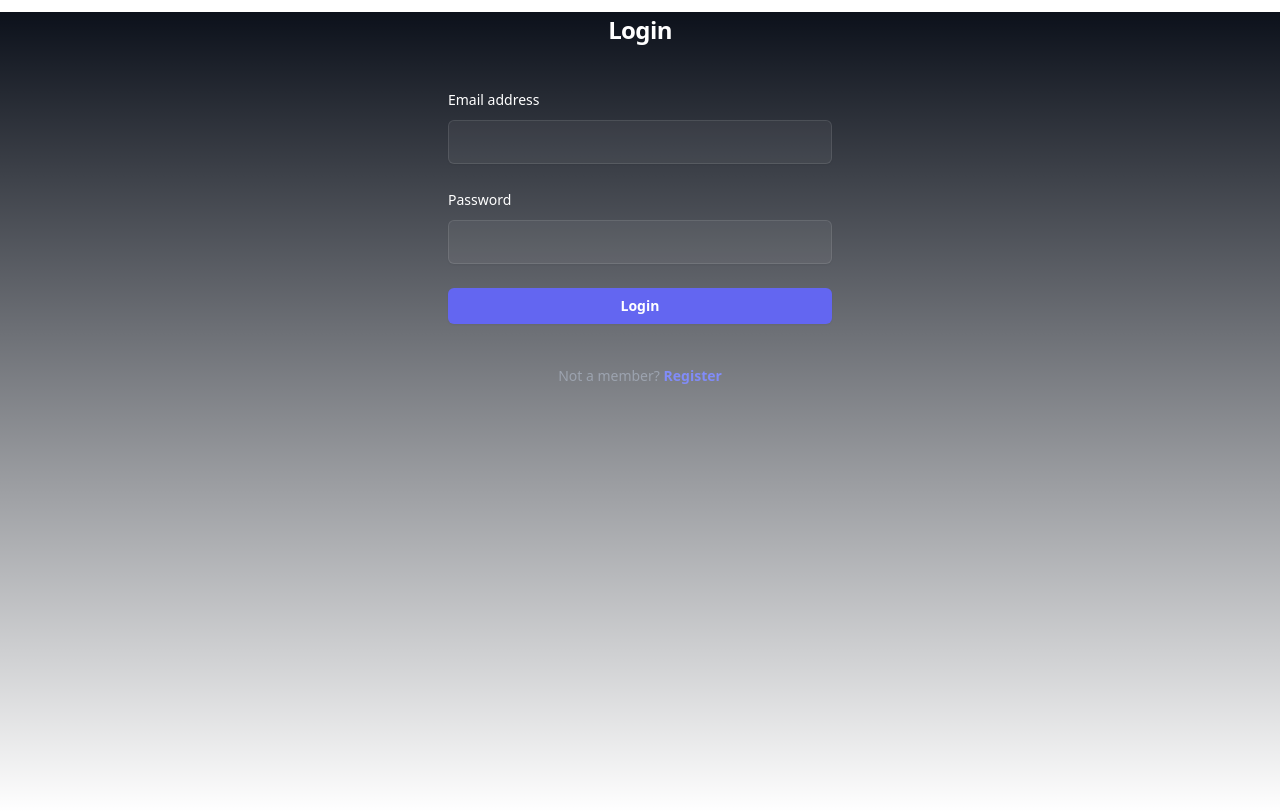
it: Login › should render error message when submit empty form
Click the button with test id "login-button": coordinates (640, 306) [448, 288, 832, 324]
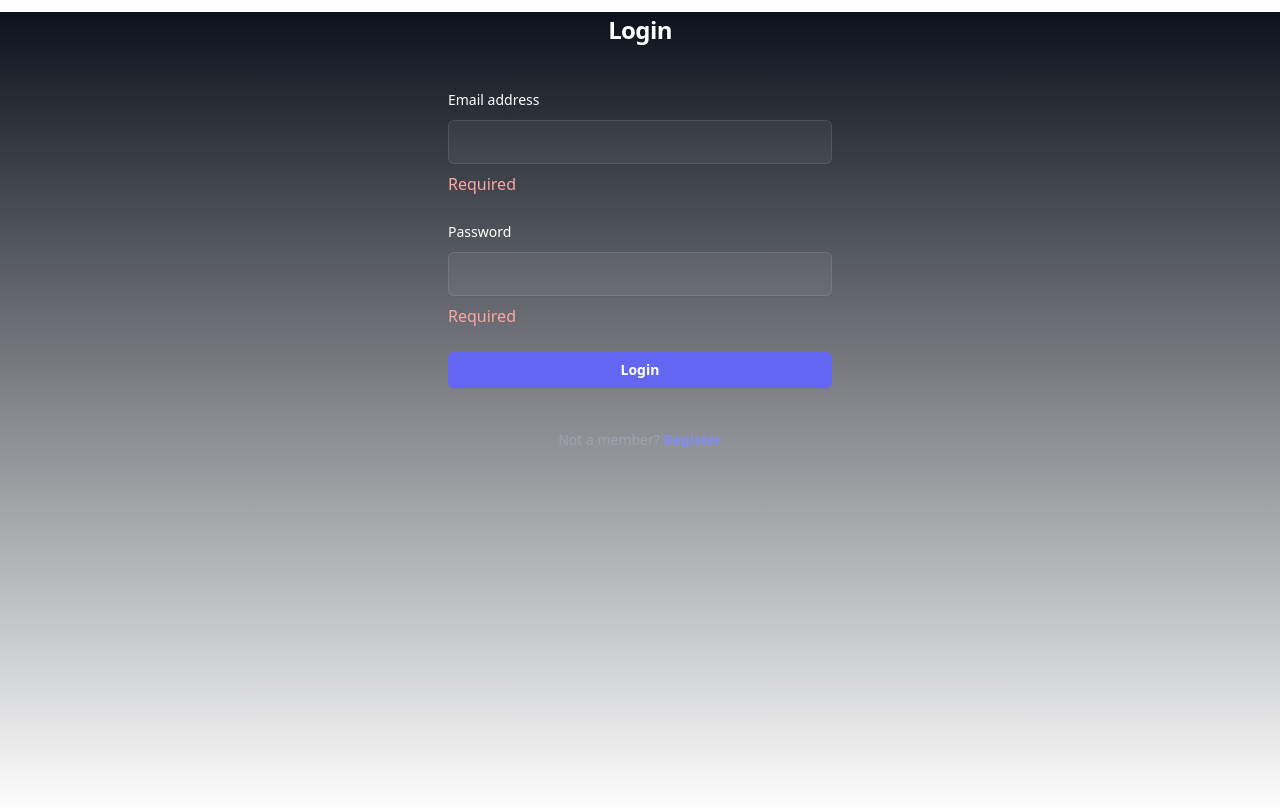
Now the text with test id "email-error-message" is shown, box [448, 173, 516, 195]
Now the text with test id "password-error-message" is shown, box [448, 305, 516, 327]
